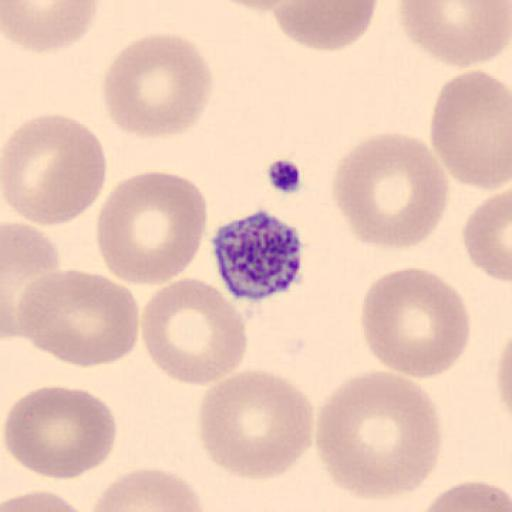Platelet: (209, 208, 307, 304)
RBC: (314, 367, 444, 503), (330, 130, 451, 251), (95, 169, 209, 287), (196, 368, 314, 481), (358, 266, 472, 380), (100, 31, 214, 141), (14, 270, 141, 368), (1, 112, 107, 227), (140, 276, 248, 386), (3, 384, 118, 480), (429, 68, 512, 191), (397, 0, 512, 69), (2, 220, 61, 334), (87, 467, 210, 512), (272, 0, 378, 52), (2, 0, 103, 54), (462, 187, 512, 283), (416, 478, 512, 512), (0, 488, 92, 512), (207, 0, 325, 13), (495, 339, 512, 420)
